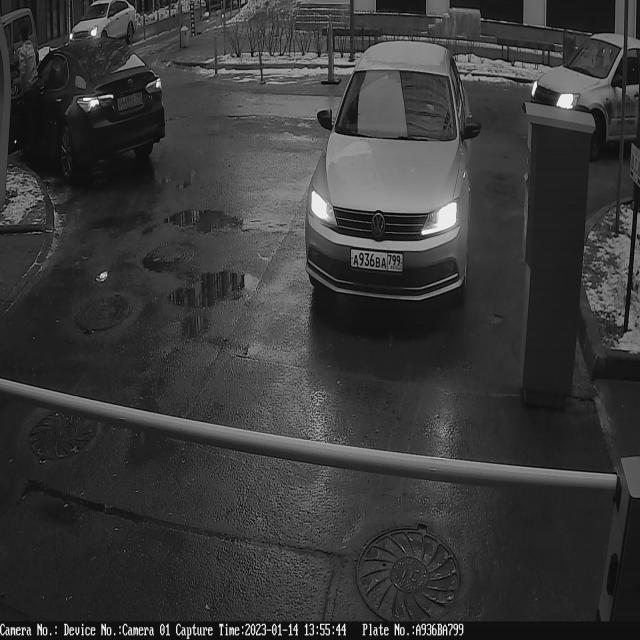car-plate-numbers: (348, 243, 408, 279)
